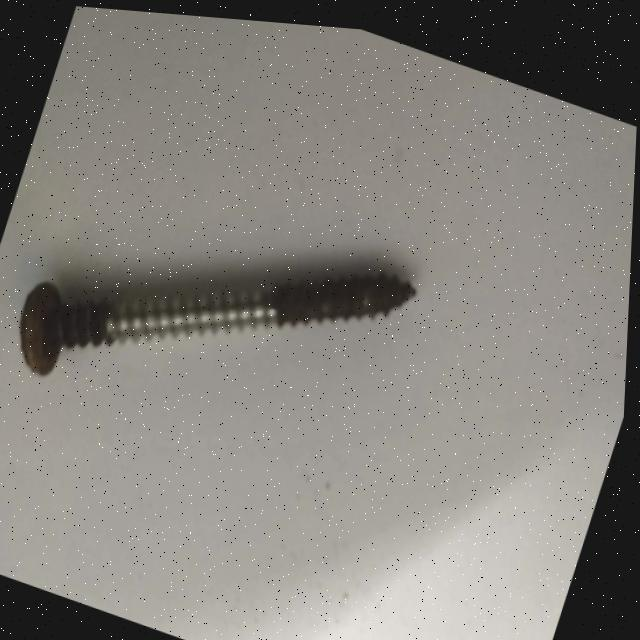corrosion: (23, 281, 112, 374), (272, 266, 417, 321)
